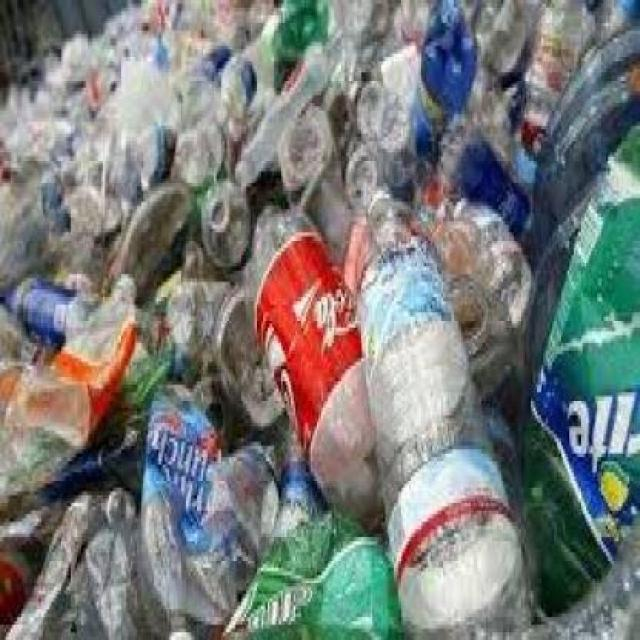garbage: (0, 0, 638, 636)
